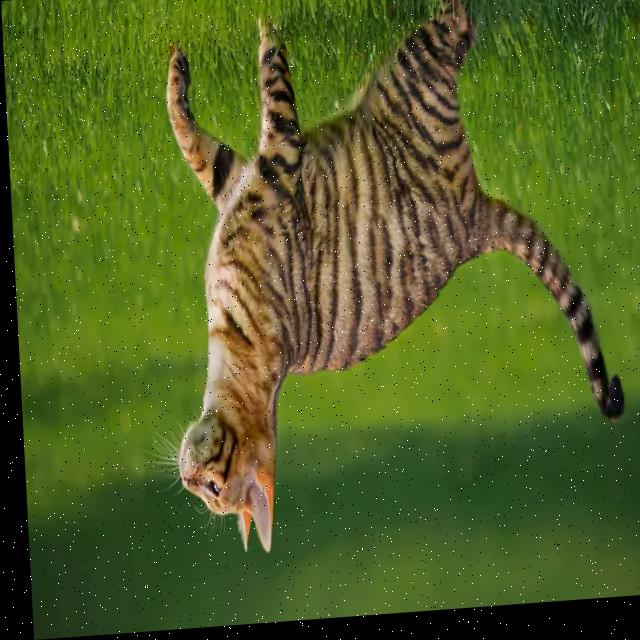Toyger: (149, 0, 628, 564)
